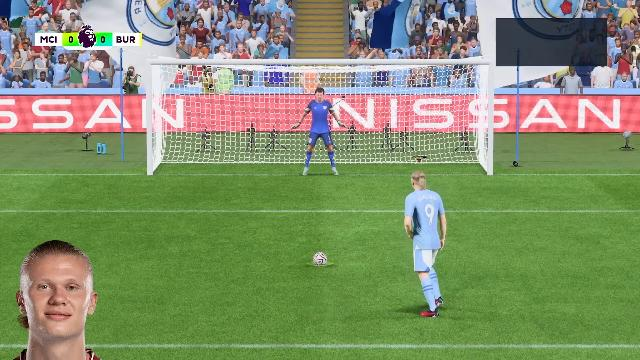circle: (306, 261, 334, 265)
football: (314, 253, 328, 264)
goal-bottom-left: (153, 128, 265, 176)
goal-bottom-right: (370, 126, 488, 176)
goal-middle-down: (268, 126, 368, 176)
goal-middle-up: (268, 65, 368, 123)
goal-top-left: (152, 66, 266, 124)
goal-top-right: (370, 65, 488, 124)
goalkeeper: (292, 87, 346, 179)
player: (393, 171, 455, 323)
